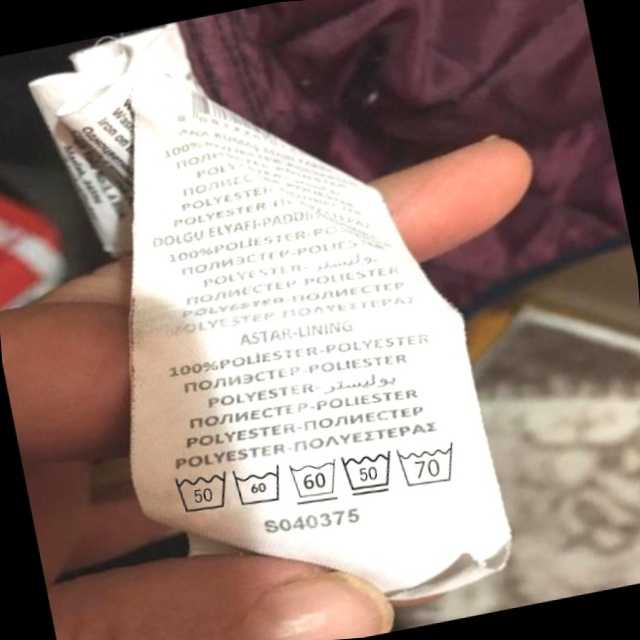50C: (166, 460, 237, 522), (337, 443, 402, 503)
60C: (285, 451, 347, 509), (228, 458, 291, 514)
70C: (394, 435, 467, 493)
